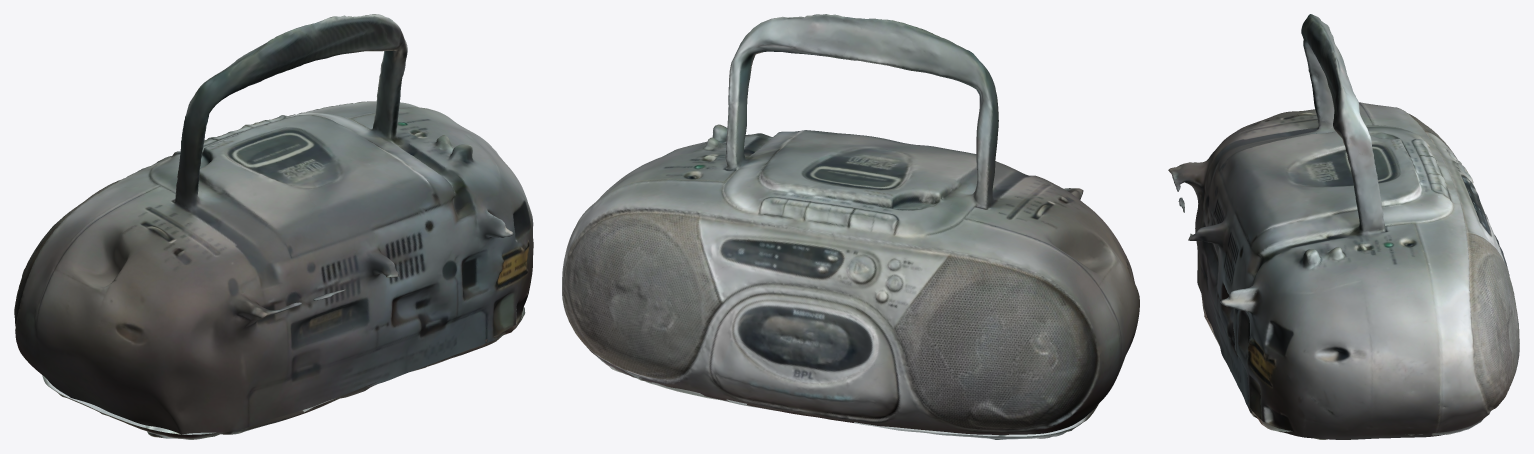
The model's file is radio2.glb.
The picture shows the model from 3 angles, left to right: view 1: azimuth 30°, elevation 25°; view 2: azimuth 150°, elevation 25°; view 3: azimuth 270°, elevation 25°; orthographic projection. The views are drawn at different scales.
Visible parts, largest first — view 1: 3DModel.001, 3DModel; view 2: 3DModel.001, 3DModel; view 3: 3DModel.001, 3DModel.
Boxes of the visible parts, left/top/right/bottom form: 3DModel.001: left=14, top=14, right=533, bottom=434; 3DModel: left=42, top=306, right=525, bottom=439; 3DModel.001: left=562, top=14, right=1139, bottom=434; 3DModel: left=596, top=356, right=1099, bottom=439; 3DModel.001: left=1168, top=14, right=1519, bottom=439; 3DModel: left=1201, top=294, right=1482, bottom=439.
Size of the model in its own units: 0.838 by 0.5427 by 0.5467.
Materials: 2 (2 with a texture image).
